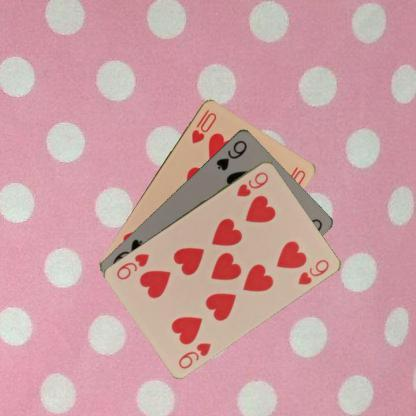10h: (188, 106, 218, 144)
9h: (233, 168, 270, 198), (176, 340, 212, 370)
9s: (214, 137, 249, 172)
